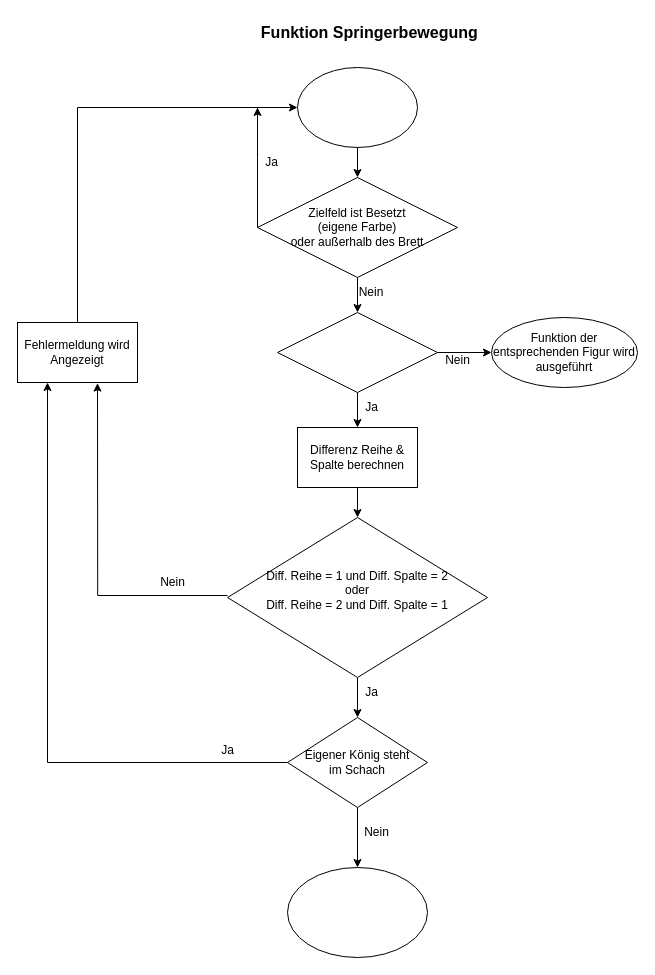
The diagram is 655 pixels wide and 975 high, and some of its shapes have lost their labels. The shapes that lost their labels are listed below. From the top down, each one's centre as x and y in pixels, then its label:
point 357,107: Eingabe Bewegung des Benutzers.
point 357,352: Startfeld ist Springer
point 357,912: Brett wird aktualisiert Zug abgeschlossen
